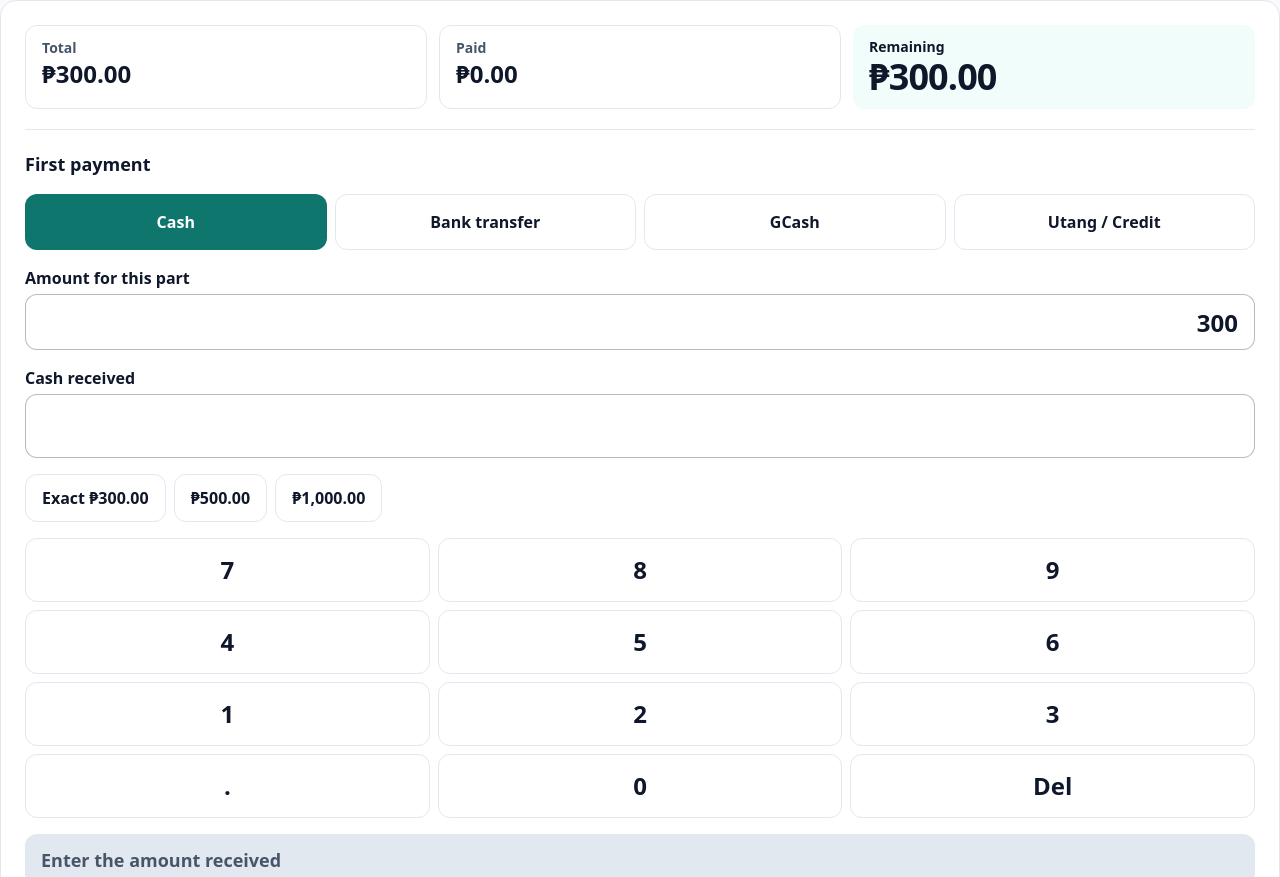
Scenario: SplitTenderPanel › allows only one Utang part
The image size is (1280, 877).
Click the radio button labelled "Utang / Credit" at (1104, 222), box [954,194,1255,250]
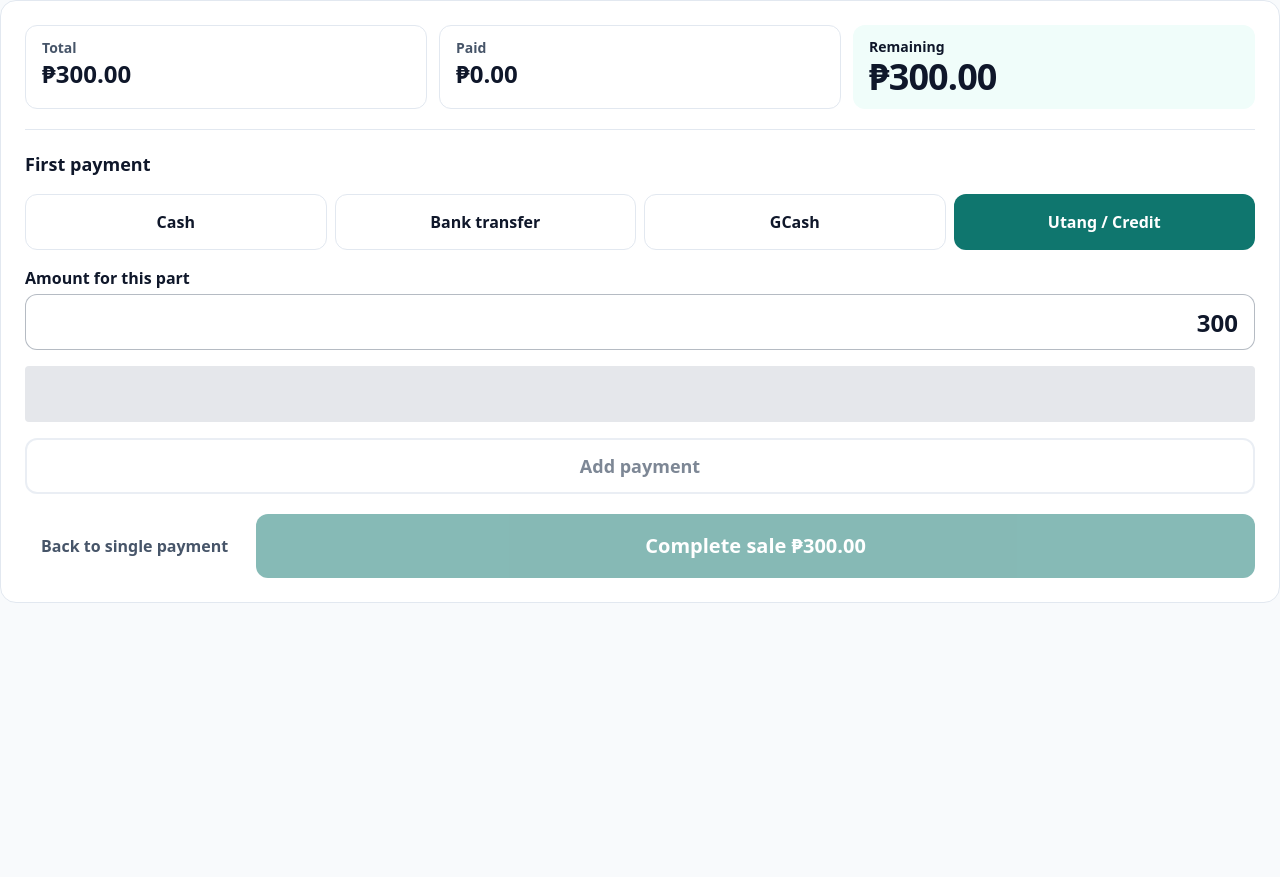
Replace the text in the field labelled "Amount for this part" with "50" at (640, 322), box [25,294,1255,350]
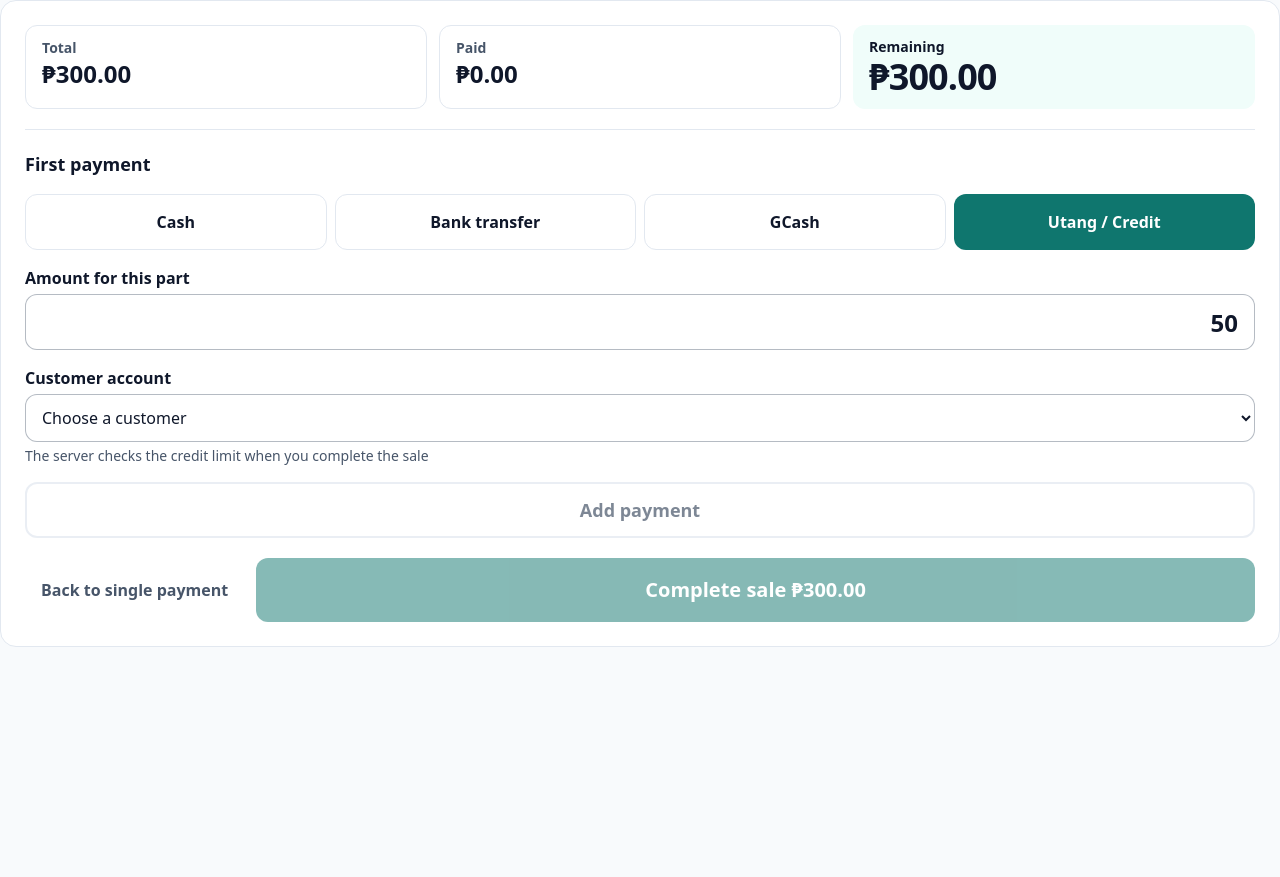
Select "Aling Nena (₱100.00 available)" in the dropdown labelled "Customer account" at (640, 418), box [25,394,1255,442]
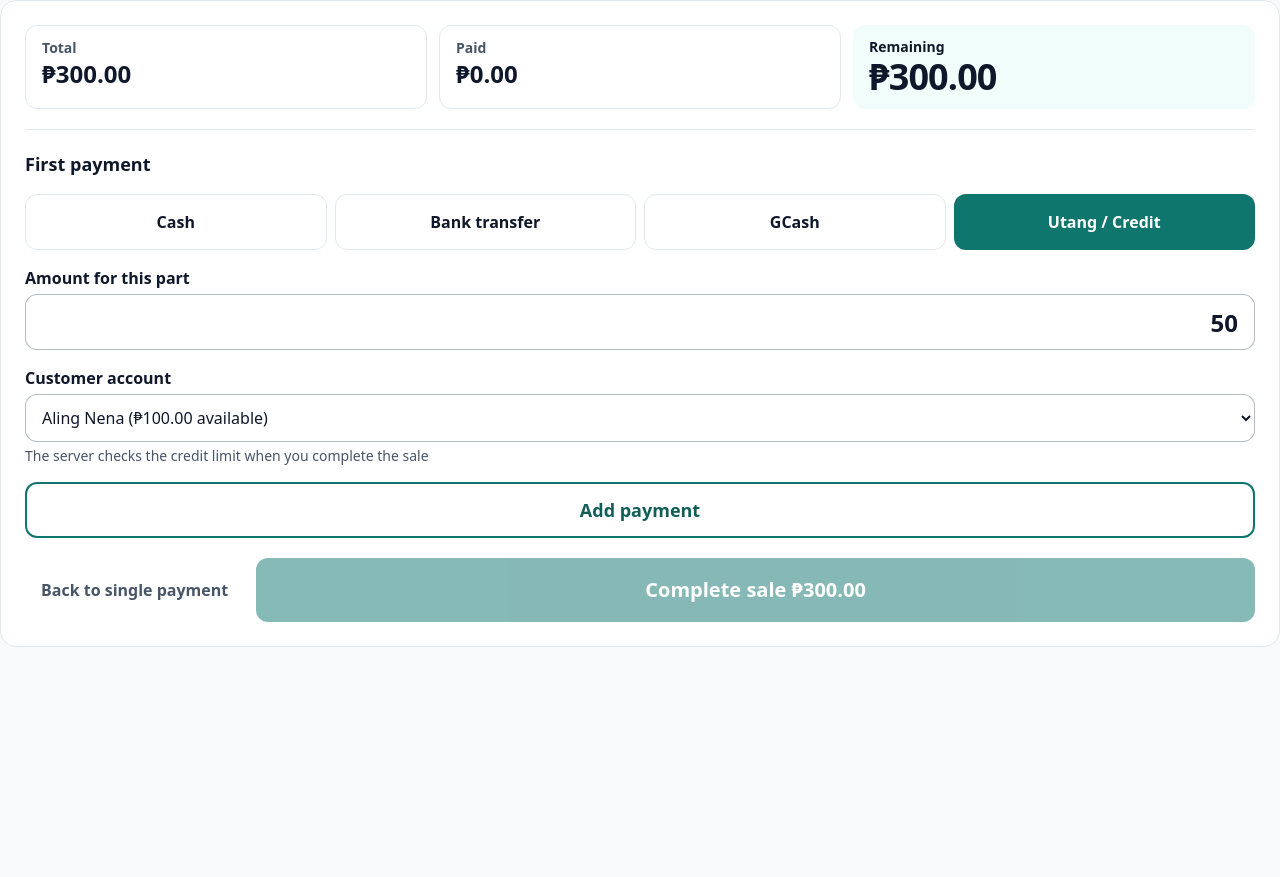
Click the button "Add payment" at (640, 510), box [25,482,1255,538]
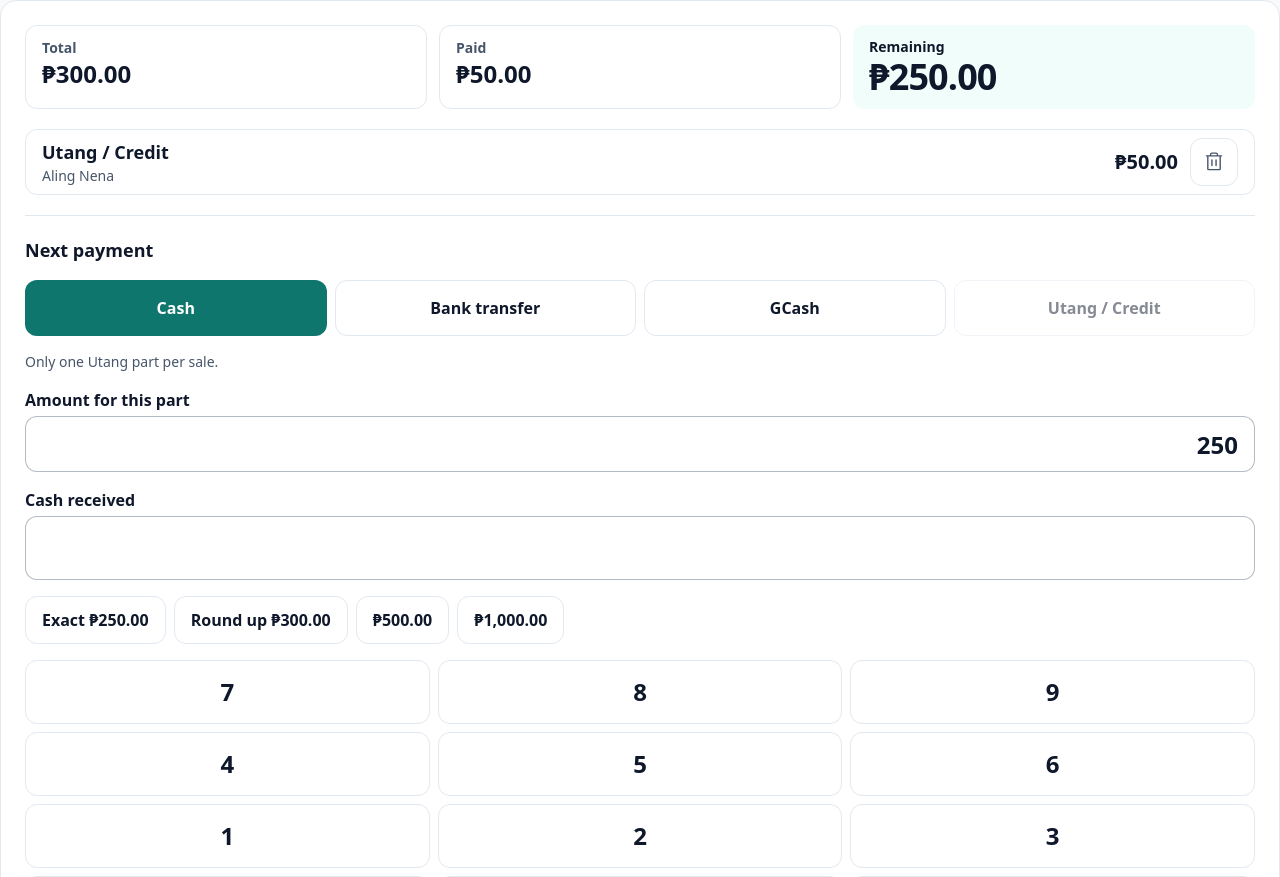
Check: the radio button labelled "Utang / Credit" is disabled, box [954,280,1255,336]
Check: the text "Only one Utang part per sale." is shown, box [25,352,218,371]
